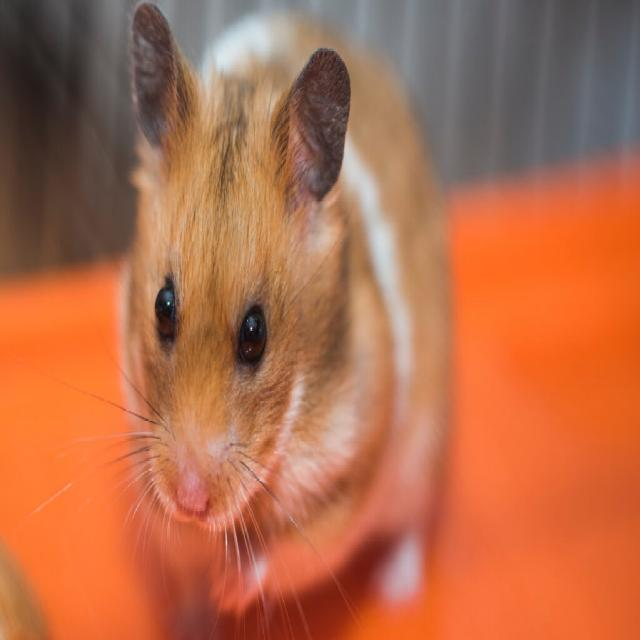hamster: (114, 1, 461, 638)
